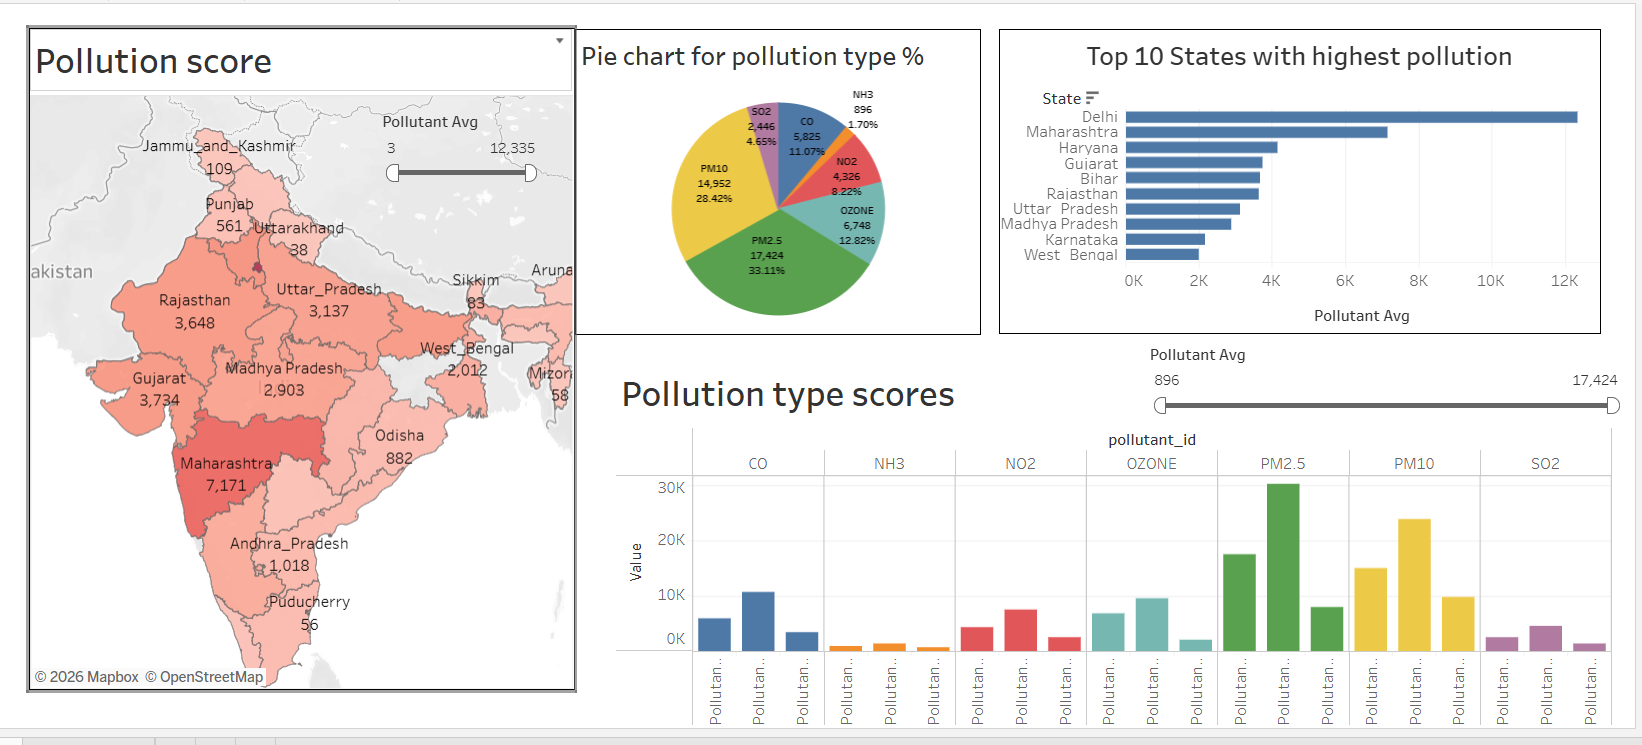

The page's visual inventory and layout, read from the dashboard file:
{"tool":"tableau","page":{"name":"Dashboard 1","canvas":[1000,1000],"units":"permille","ordinal":0},"visuals":[{"type":"worksheet","title":"Sheet 1","mark":"Automatic","box":[21.1,32.5,333.1,916.4]},{"type":"worksheet","title":"Sheet 2","mark":"Pie","box":[354,35,247.3,423.2]},{"type":"worksheet","title":"Sheet 5","mark":"Automatic","rows":["state"],"cols":["pollutant_avg"],"box":[612.2,35,367.3,420.7]},{"type":"legend","title":"Sheet 2","param":"[federated.05jvh931vjzpth1ar68ea08bop65].[none:pollutant_id:nk]","box":[358.4,134.8,84.3,218.5]},{"type":"filter","title":"Sheet 1","param":"[federated.05jvh931vjzpth1ar68ea08bop65].[sum:pollutant_avg:qk]","box":[236.8,146.1,96.4,81.2]},{"type":"filter","title":"Sheet 3","param":"[federated.05jvh931vjzpth1ar68ea08bop65].[sum:pollutant_avg:qk]","box":[601.9,480.7,96.5,81.2]},{"type":"worksheet","title":"Sheet 3","mark":"Automatic","cols":["pollutant_id"],"box":[379.5,493.1,606.6,505.6]}]}

Visuals, with their boxes on the dashboard's canvas, which has no fixed pixel size, in thousandths of its width and height (x1, y1, x2, y2). These are canvas units, not pixel positions in the 1642x745 screenshot, which may show the page scaled, cropped or inside an application window:
"Sheet 1" worksheet: <region>21, 32, 354, 949</region>
"Sheet 2" worksheet (Pie marks): <region>354, 35, 601, 458</region>
"Sheet 5" worksheet: <region>612, 35, 980, 456</region>
"Sheet 2" legend: <region>358, 135, 443, 353</region>
"Sheet 1" filter: <region>237, 146, 333, 227</region>
"Sheet 3" filter: <region>602, 481, 698, 562</region>
"Sheet 3" worksheet: <region>380, 493, 986, 999</region>
